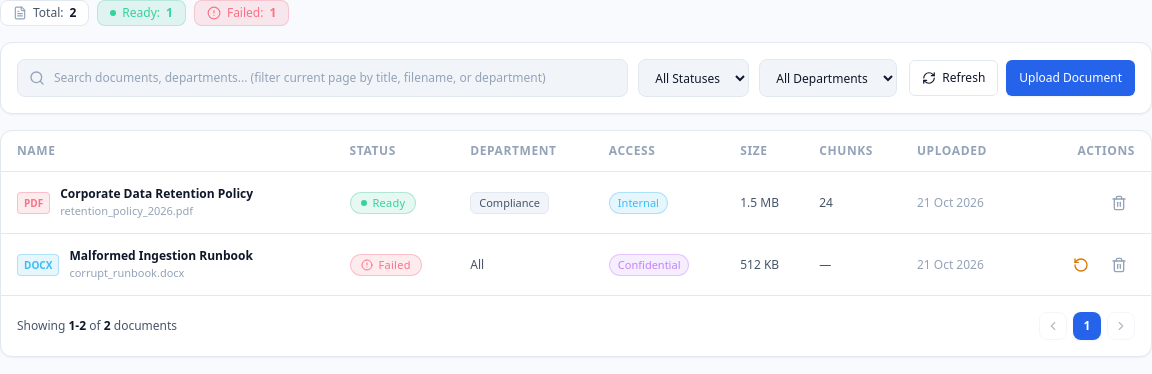
Test case: Document Management & Ingestion UI › DocumentList › resets filters when reset button is clicked
Expected: the link "Corporate Data Retention Policy" is shown, top-left (60, 186), bottom-right (253, 201)
Replace the text in the field with placeholder "filter current page" with "Malformed" at [323, 78], box top-left (17, 59), bottom-right (628, 97)
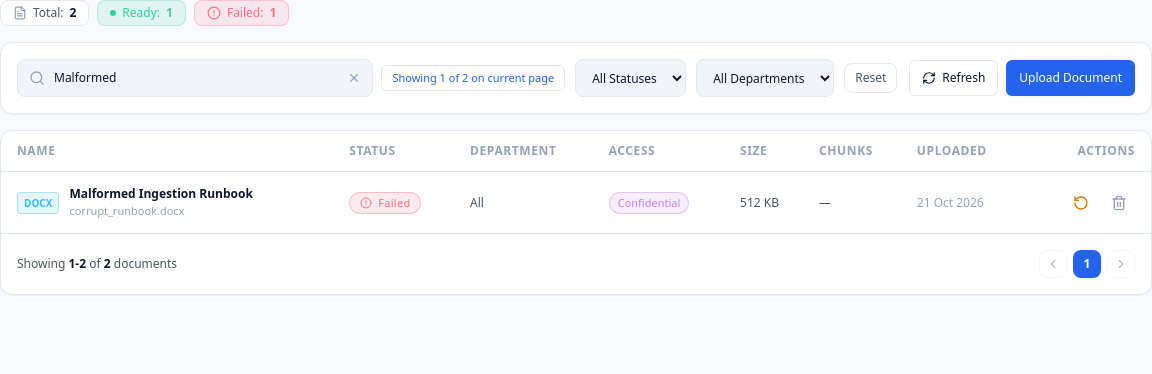
Click the button "Reset".
click(871, 78)  # box top-left (844, 63), bottom-right (897, 93)
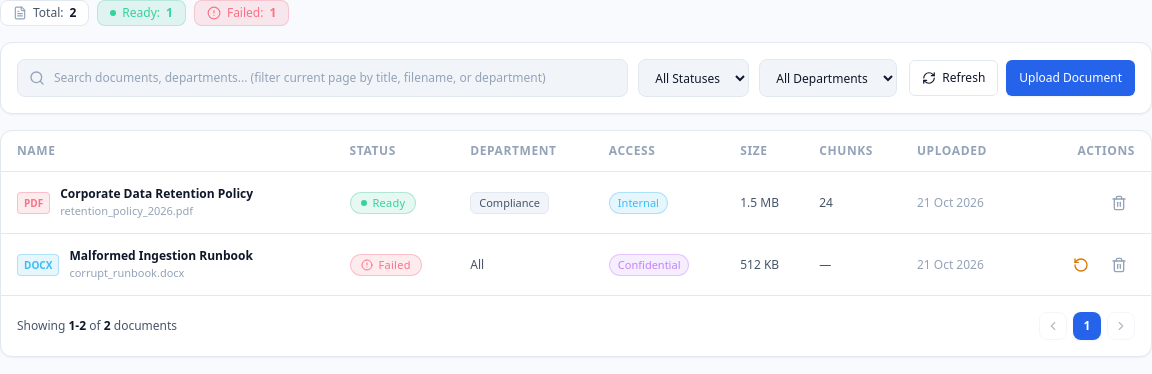
Result: the field with placeholder "filter current page" is empty at top-left (17, 59), bottom-right (628, 97)
Result: the link "Corporate Data Retention Policy" is shown at top-left (60, 186), bottom-right (253, 201)
